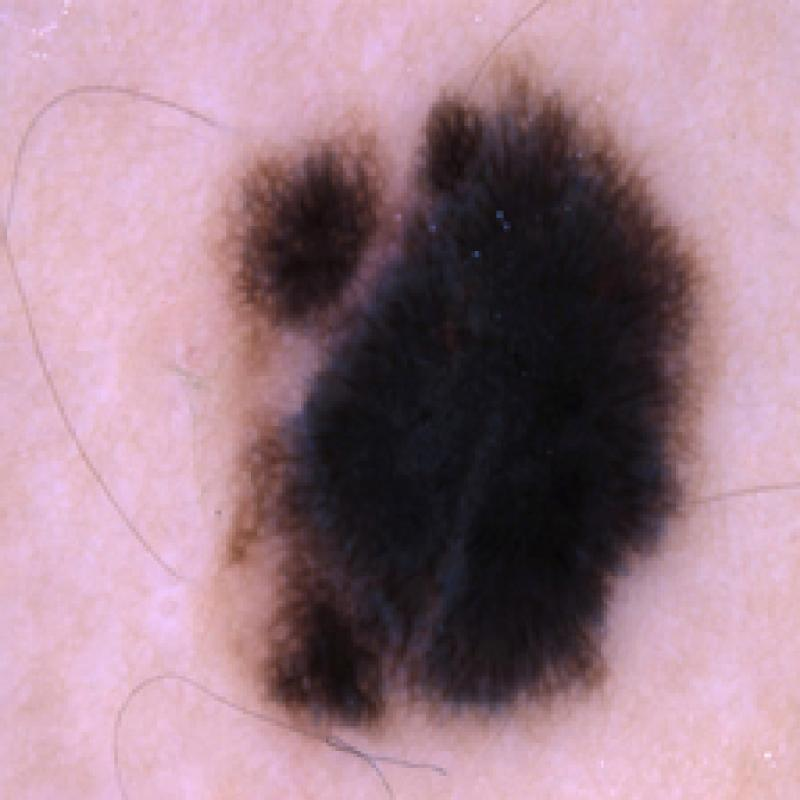benign: (213, 56, 715, 757)
